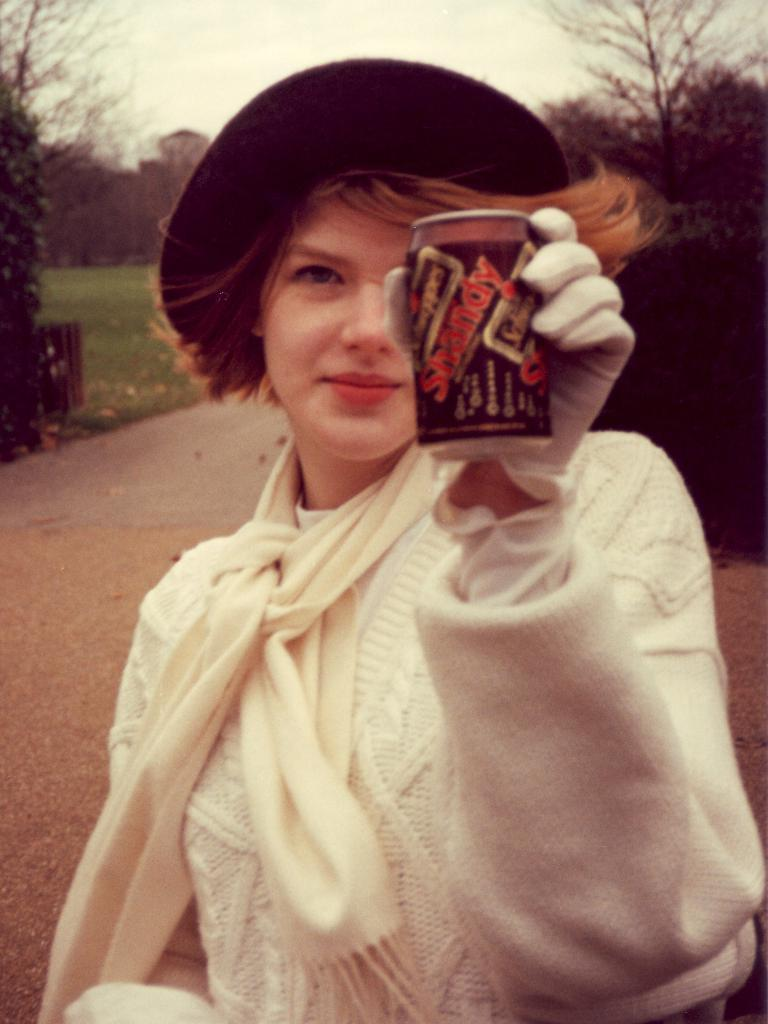Hat: (161, 56, 570, 380)
